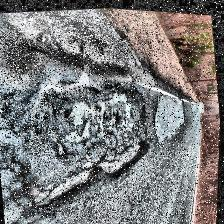pothole: (21, 164, 100, 216), (97, 132, 156, 184), (104, 86, 148, 140), (64, 97, 110, 147)
